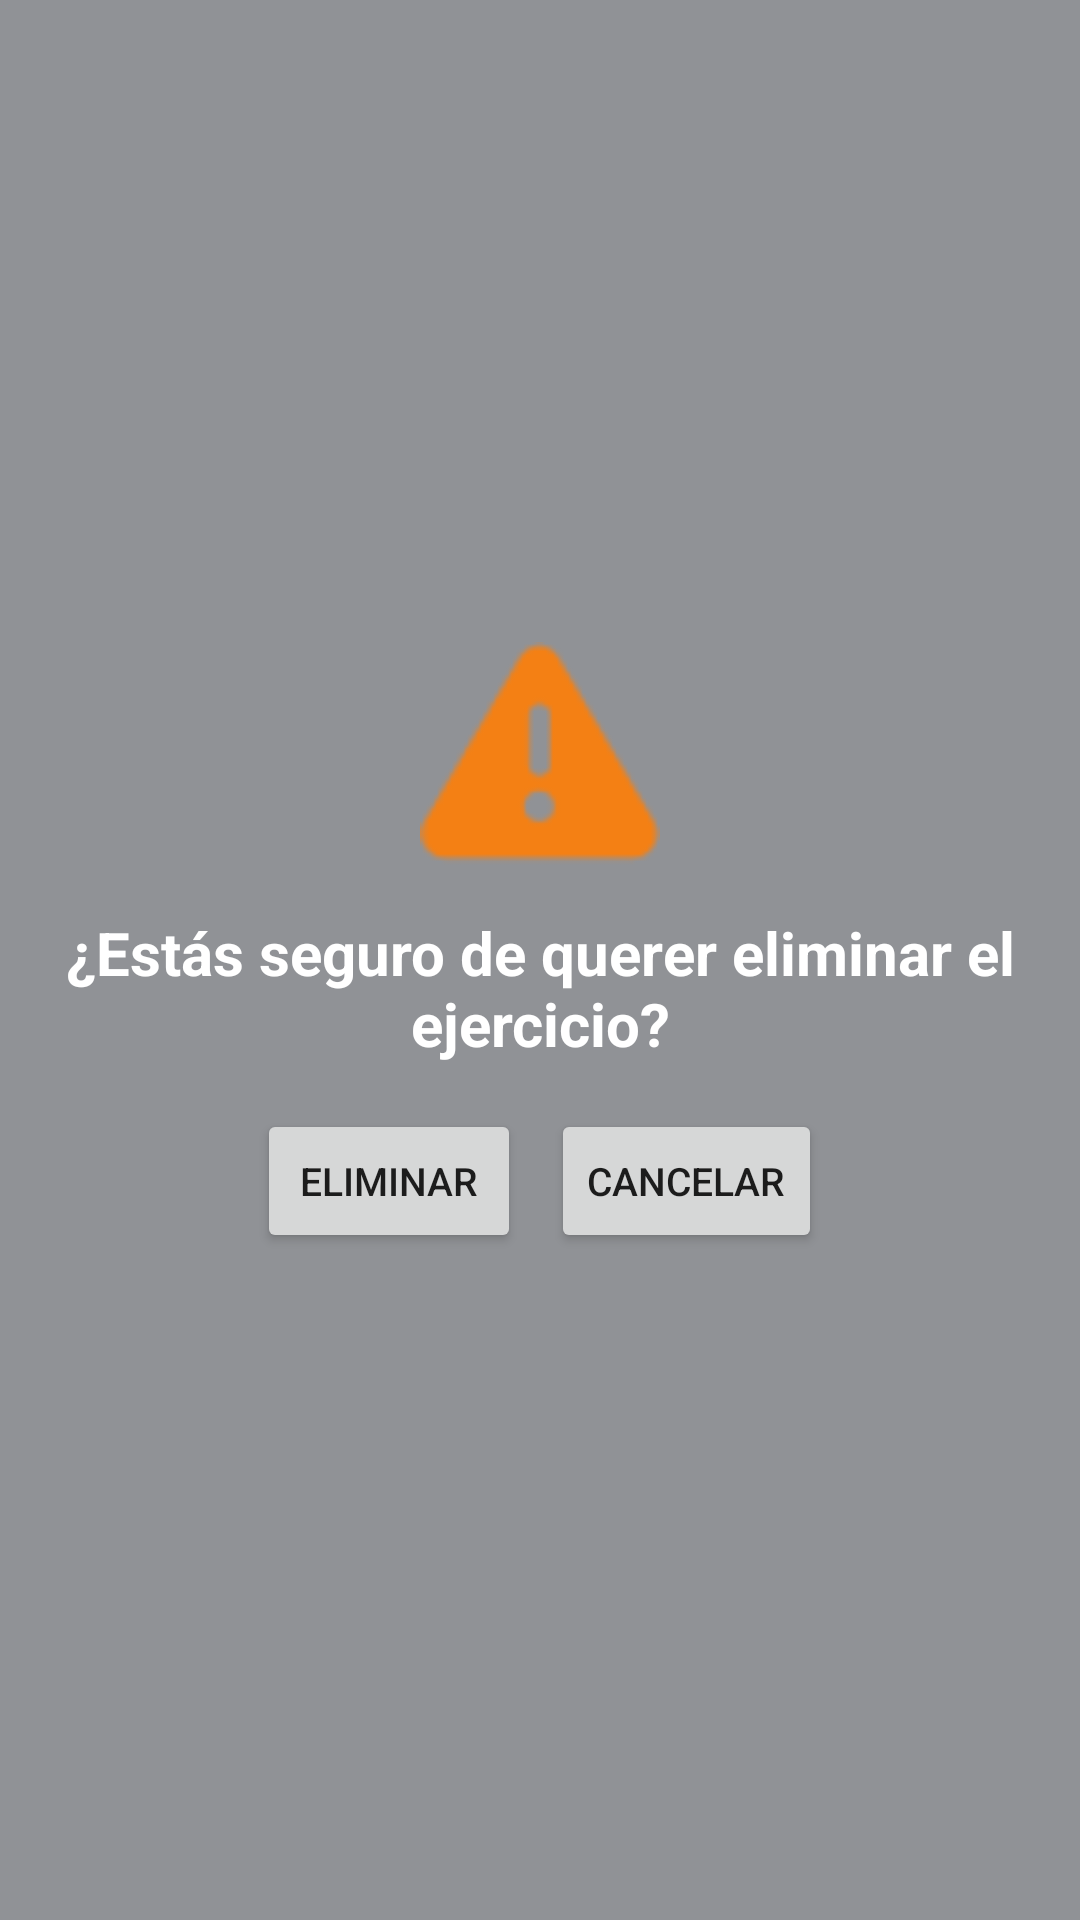

Icons on this 1080*1920 Android screen, each with the point to tap as (x,y):
alert: (540,752)
